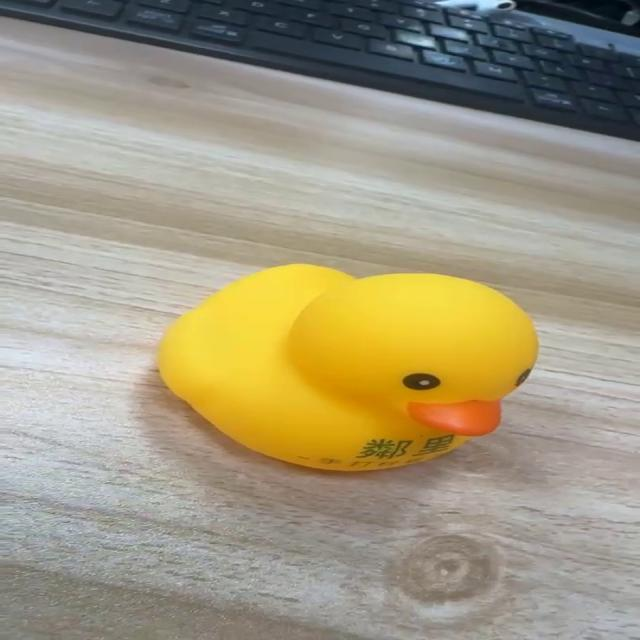yellow_duck: (154, 261, 539, 472)
